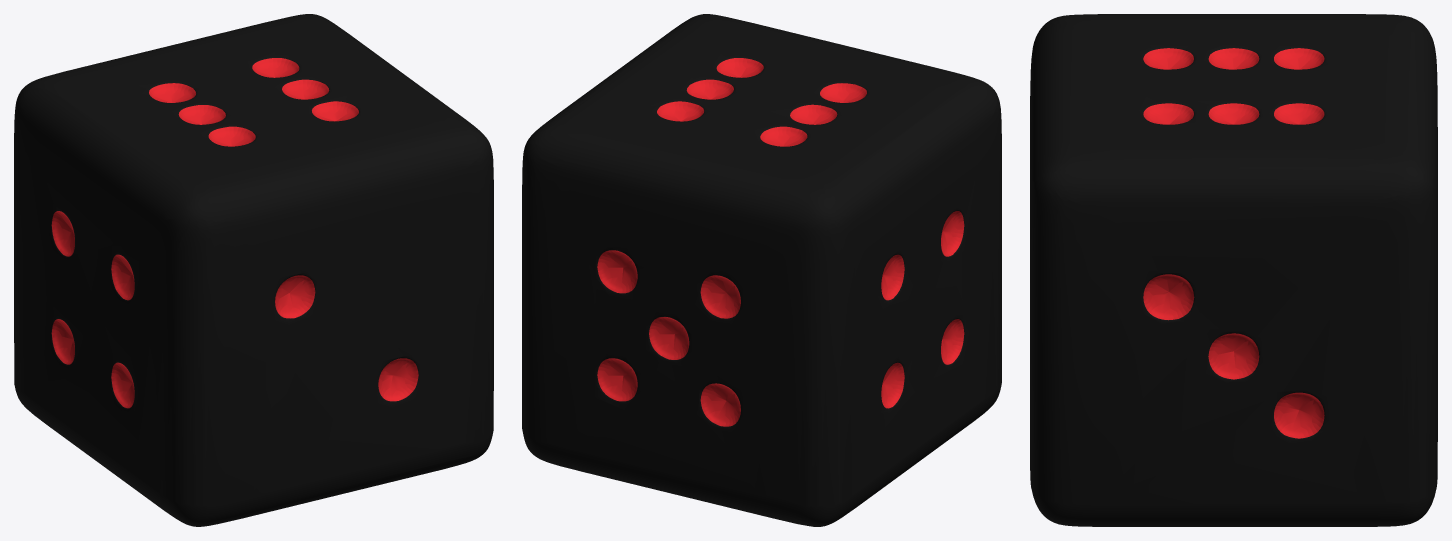
The model's file is Dice.fbx.
3 renders of one model, left to right at view 1: azimuth 30°, elevation 25°; view 2: azimuth 150°, elevation 25°; view 3: azimuth 270°, elevation 25°, orthographic. The views are drawn at different scales.
Parts seen in each view (by area): view 1: Dice; view 2: Dice; view 3: Dice.
Part boxes in pixels (x1,y1,x2,y2): Dice: (14, 14, 493, 526); Dice: (522, 14, 1001, 526); Dice: (1030, 14, 1437, 526).
Bounding box in the file's own units: 800 × 800 × 800.
